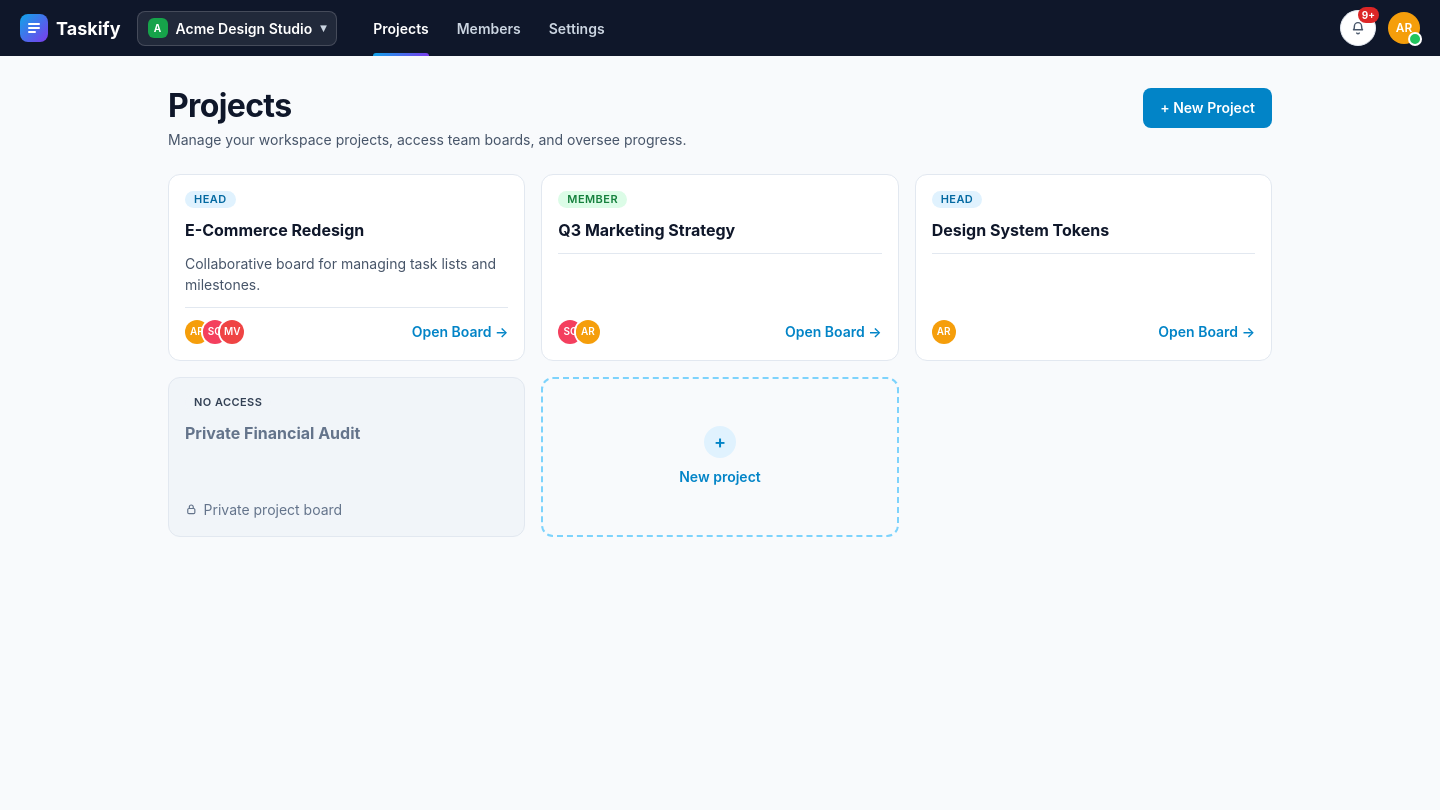
Test: Notification bell — infinite scroll › loads the first page, then fetches more on demand
The image size is (1440, 810).
Click the button named "Notifications". click: (1358, 28)
box: [1340,10,1376,46]
(page scrolled)
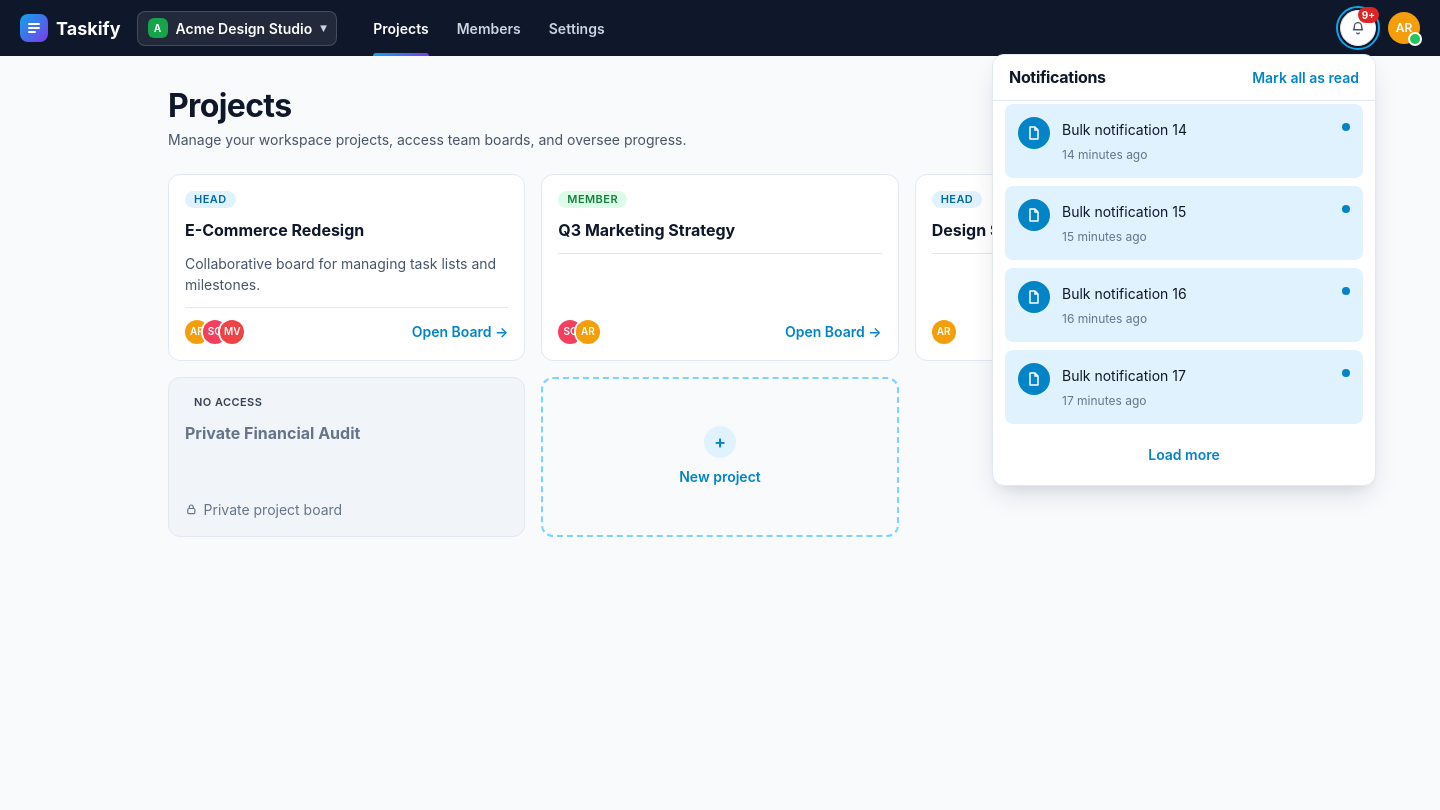
Expected: the text "Bulk notification 25" is not shown
Click the button "Load more". click: (1184, 454)
box: [1140,436,1228,473]
(page scrolled)
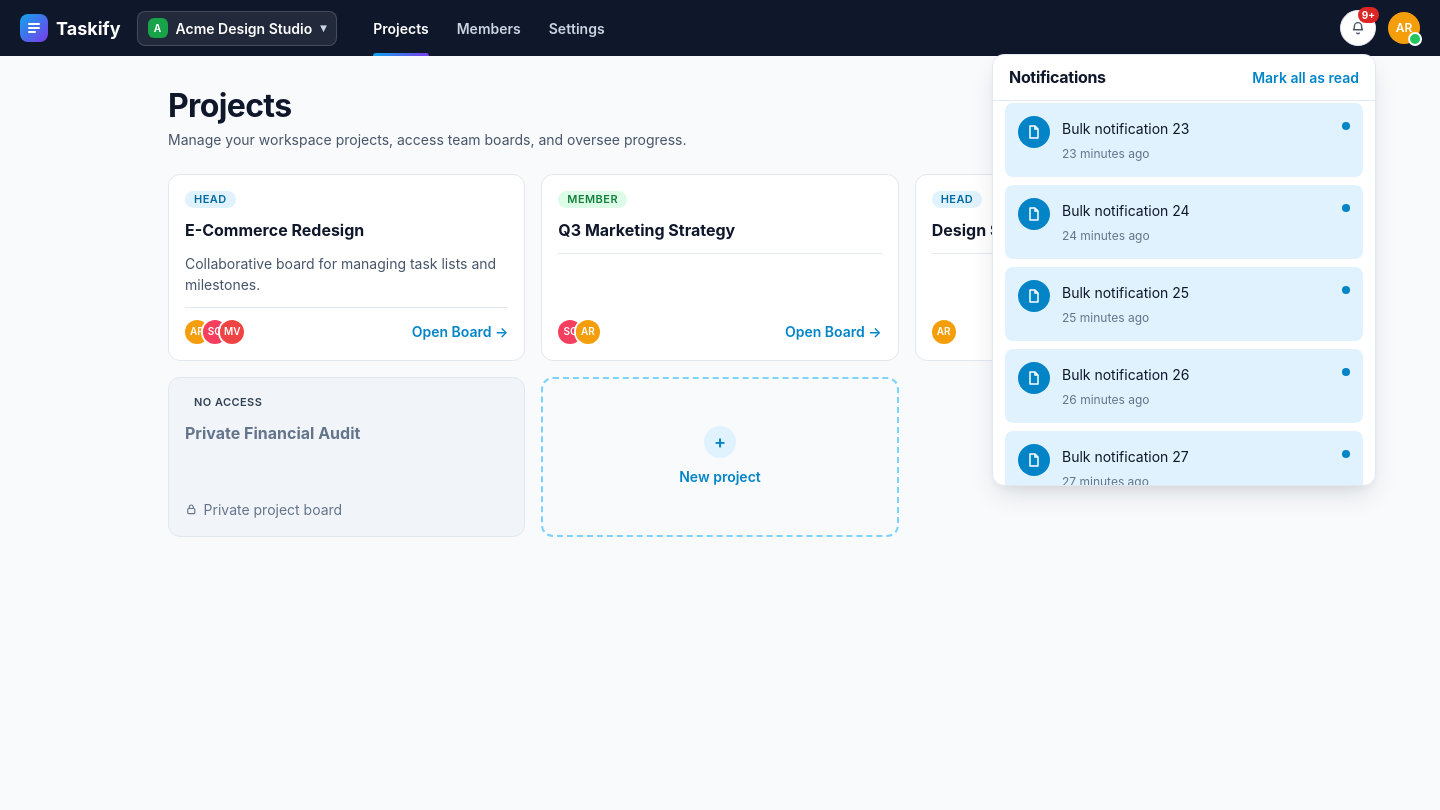
Result: the text "Bulk notification 25" is shown at [1062,284,1189,301]
Result: the button "Load more" is gone
